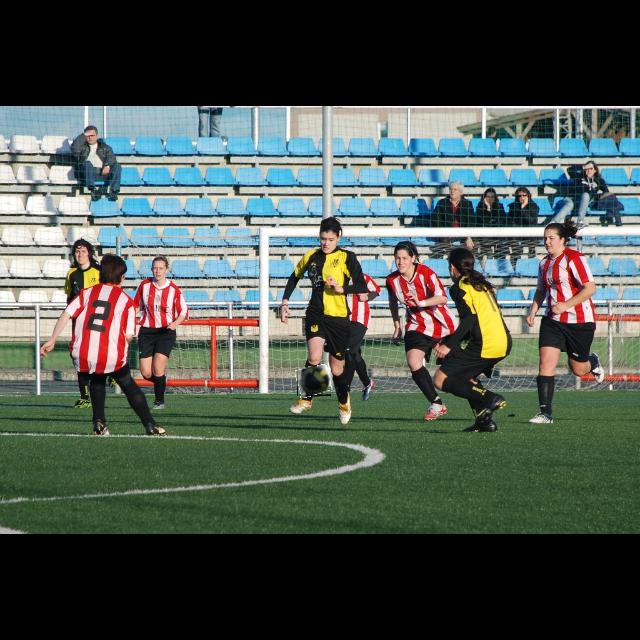Football: (297, 366, 331, 396)
